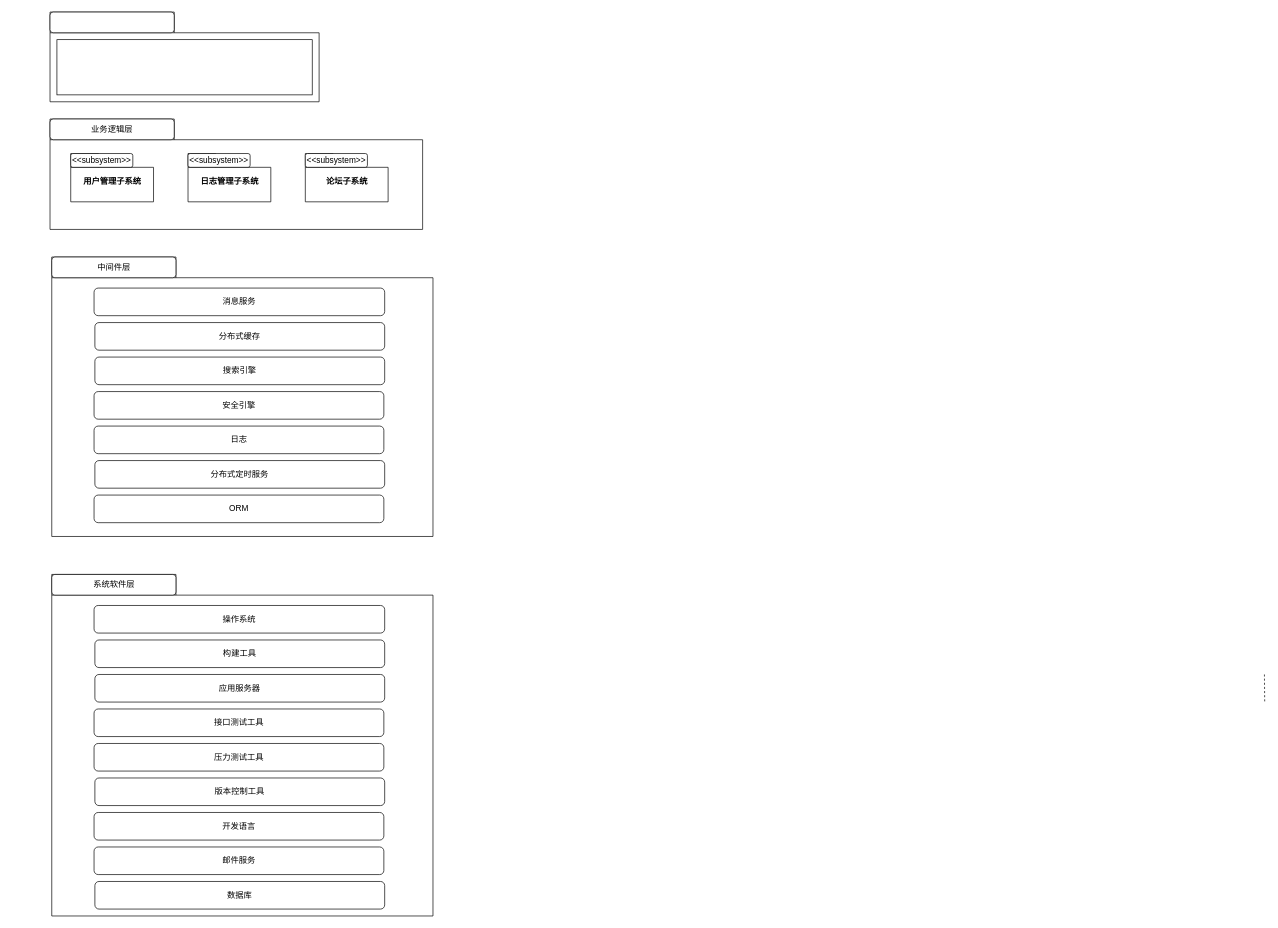
Some shapes in this 1278 by 928 pixel diagram are drawn without their labels. Here are the shapes that lost their labels. From the top down, the centre of each, then its label:
At point 111,22: "应用层".
At point 184,67: "前端组件 论坛系统 日志系统 换课系统".
